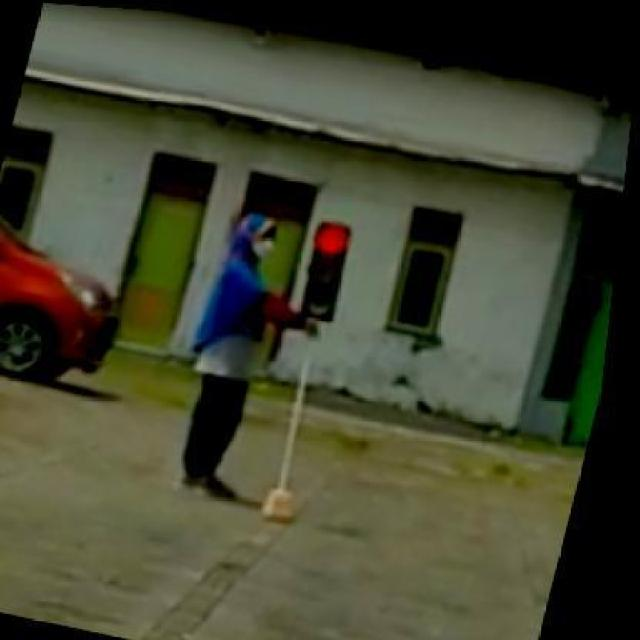Traffic Light -Red-: (295, 211, 354, 323)
